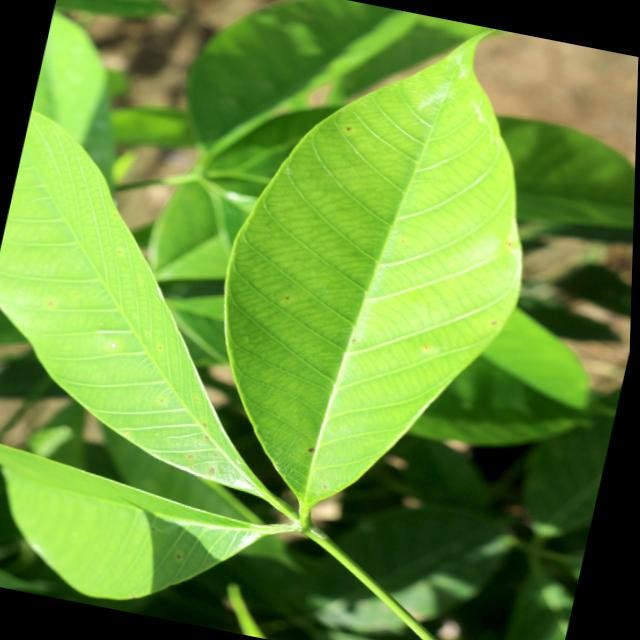Colletotrichum: (311, 447, 318, 452)
